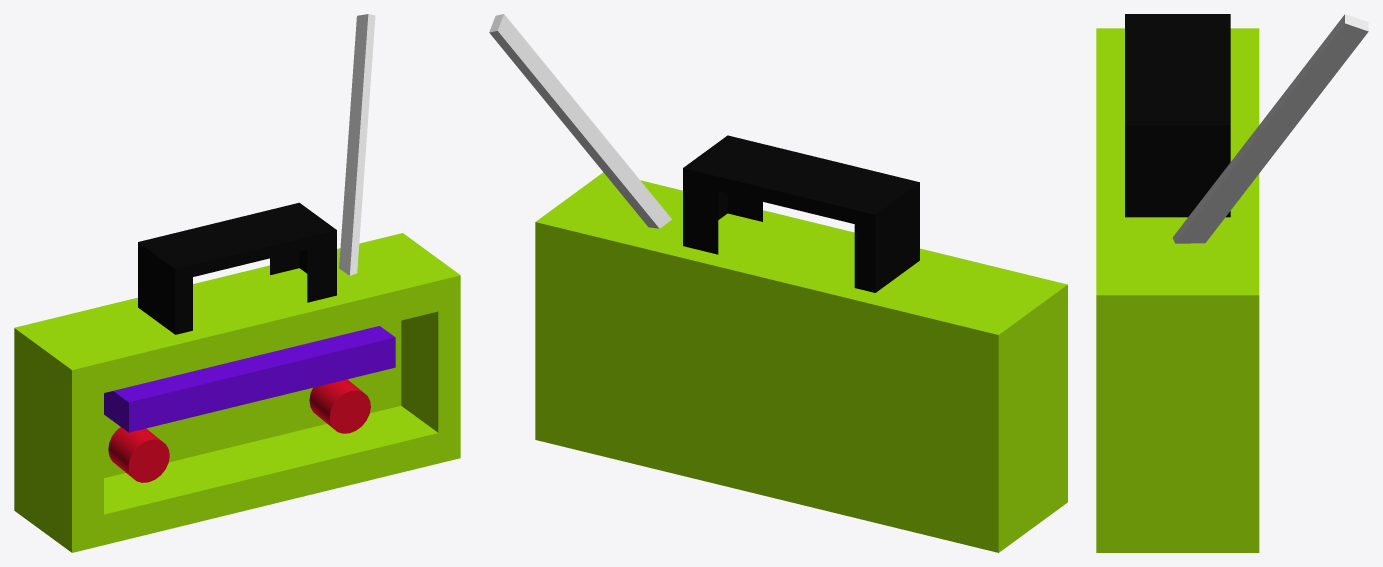
The model's file is Radio.fbx.
3 renders of one model, left to right at view 1: azimuth 30°, elevation 25°; view 2: azimuth 150°, elevation 25°; view 3: azimuth 270°, elevation 25°, orthographic. The views are drawn at different scales.
Visible parts, largest first — view 1: pCube5; view 2: pCube5; view 3: pCube5.
Part boxes in pixels (box(x1,y1,x2,y2)): pCube5: box(14, 14, 460, 552); pCube5: box(489, 14, 1067, 552); pCube5: box(1096, 14, 1368, 552).
Size of the model in its own units: 3.9 by 3.62 by 1.67.
